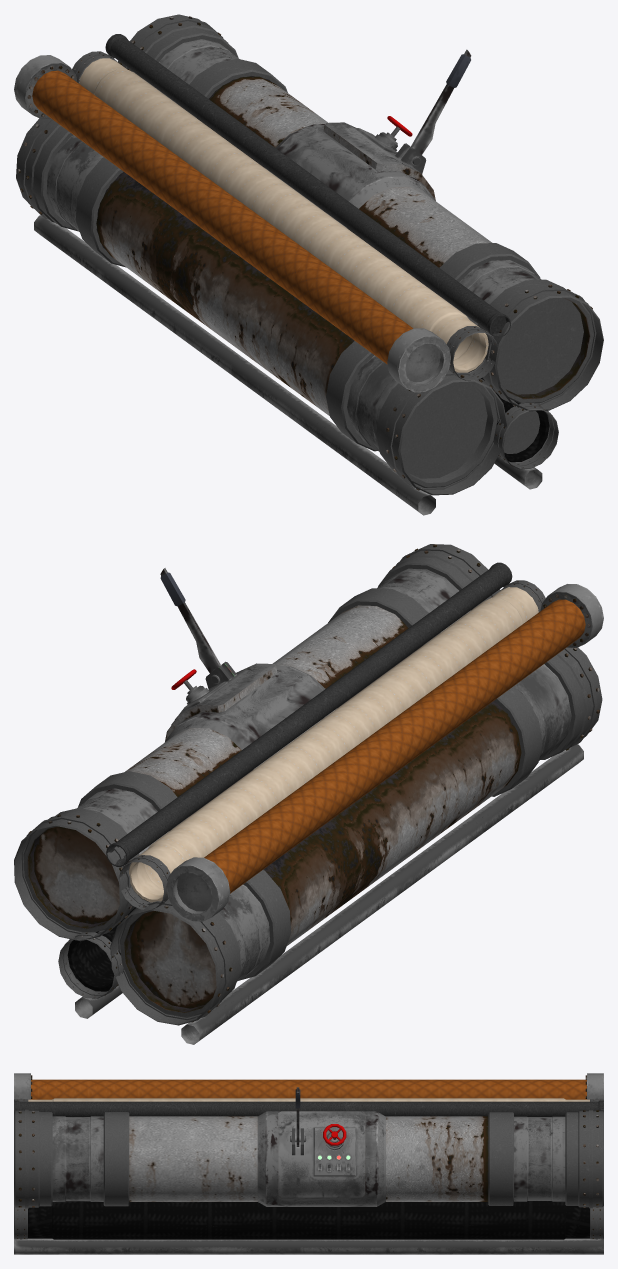
File: Sci-Fi PipelineValve.fbx
The picture shows the model from 3 angles, top to bottom: view 1: azimuth 30°, elevation 25°; view 2: azimuth 150°, elevation 25°; view 3: azimuth 270°, elevation 25°; orthographic projection. The views are drawn at different scales.
Parts seen in each view (by area): view 1: PipeLine.005; view 2: PipeLine.005; view 3: PipeLine.005.
Part boxes in pixels (box(x1,y1,x2,y2)): PipeLine.005: box(14, 14, 603, 515); PipeLine.005: box(14, 544, 603, 1044); PipeLine.005: box(14, 1073, 603, 1254).
Bounding box in the file's own units: 267 × 272 × 690.
